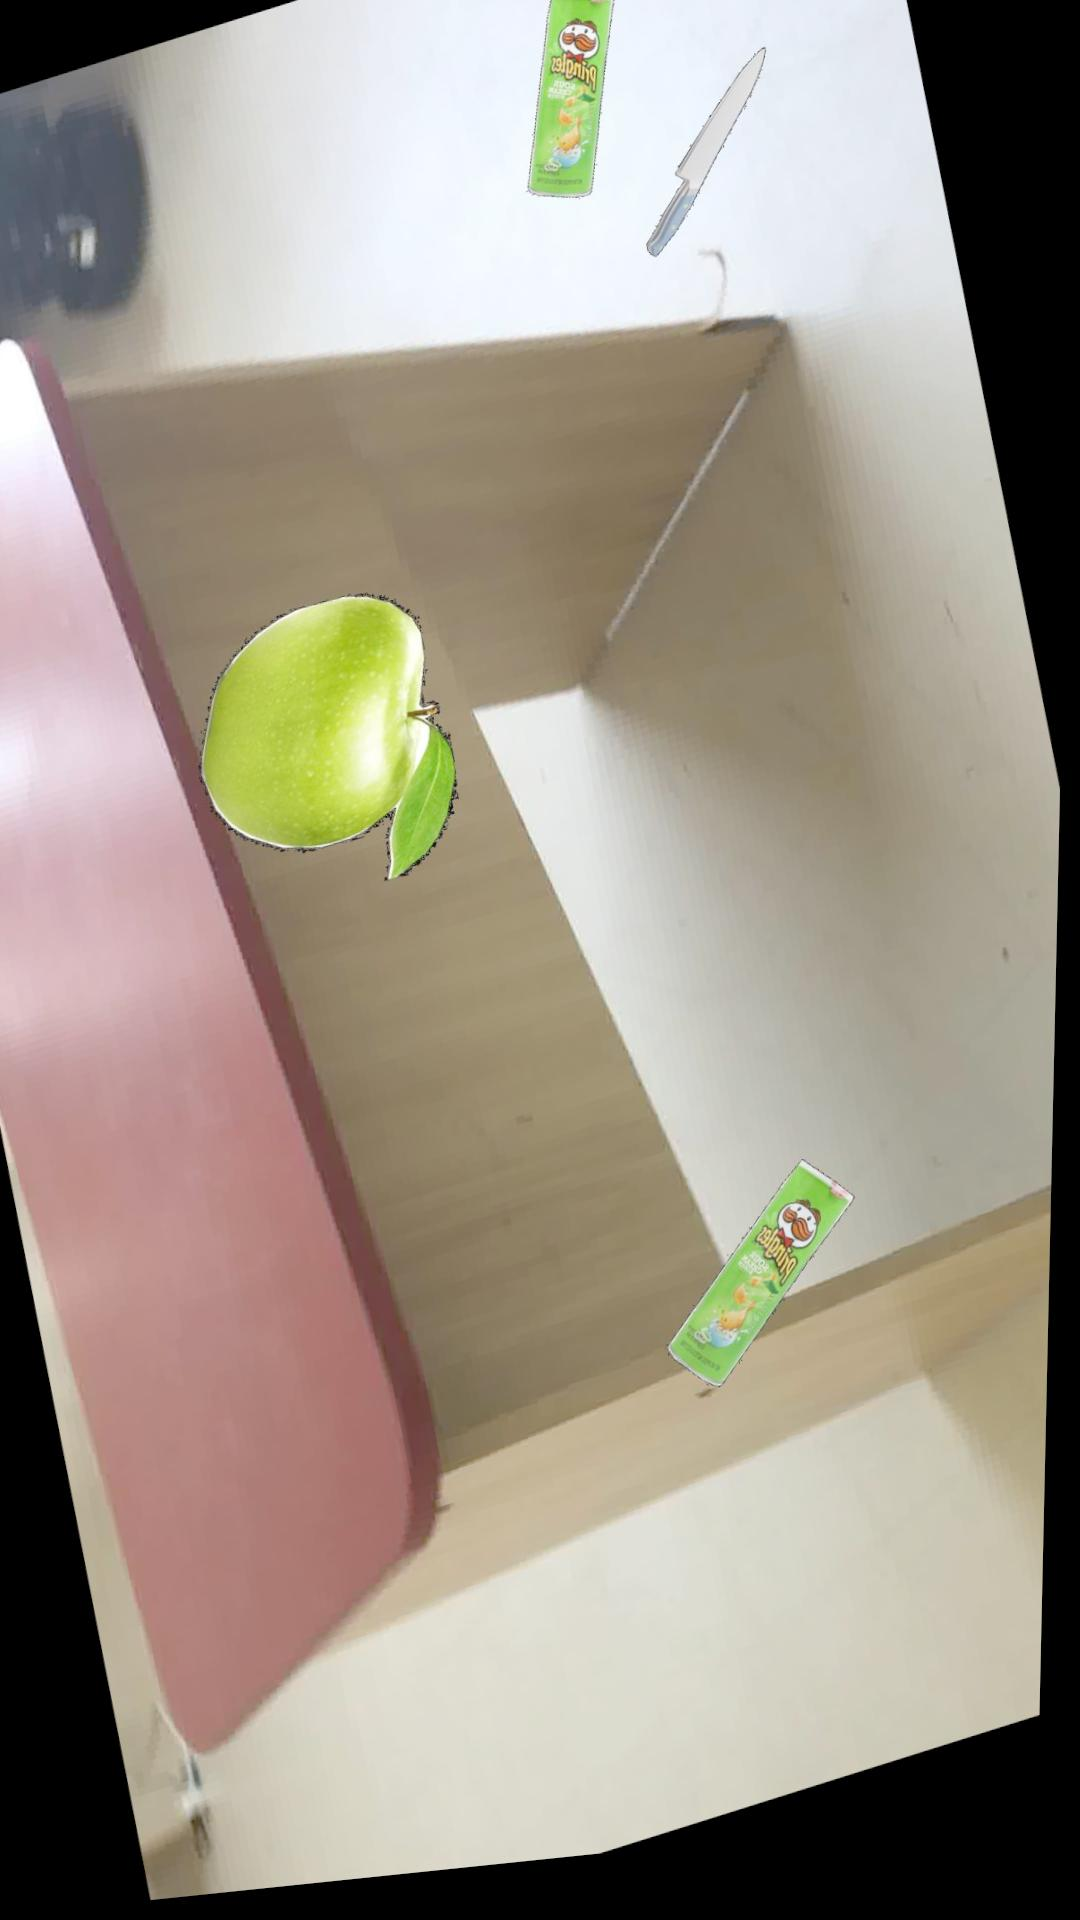green apple: (202, 599, 462, 887)
knife: (647, 62, 766, 269)
pringles: (673, 1175, 861, 1402), (529, 0, 615, 207)
